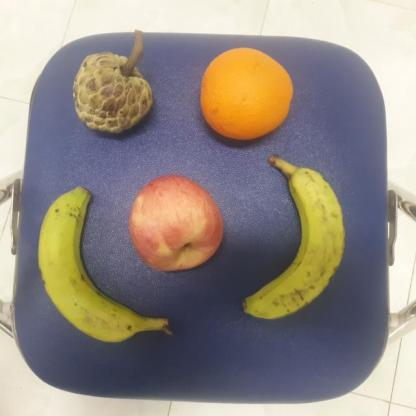annona: (71, 48, 160, 135)
apple: (126, 170, 223, 276)
banana: (37, 186, 174, 342), (244, 153, 350, 321)
orange: (199, 45, 298, 143)
